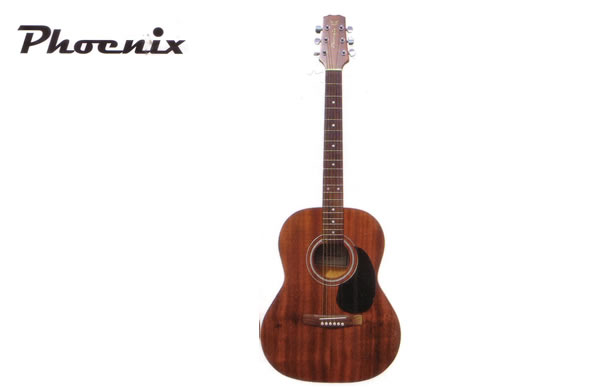guitar: (262, 12, 403, 386)
